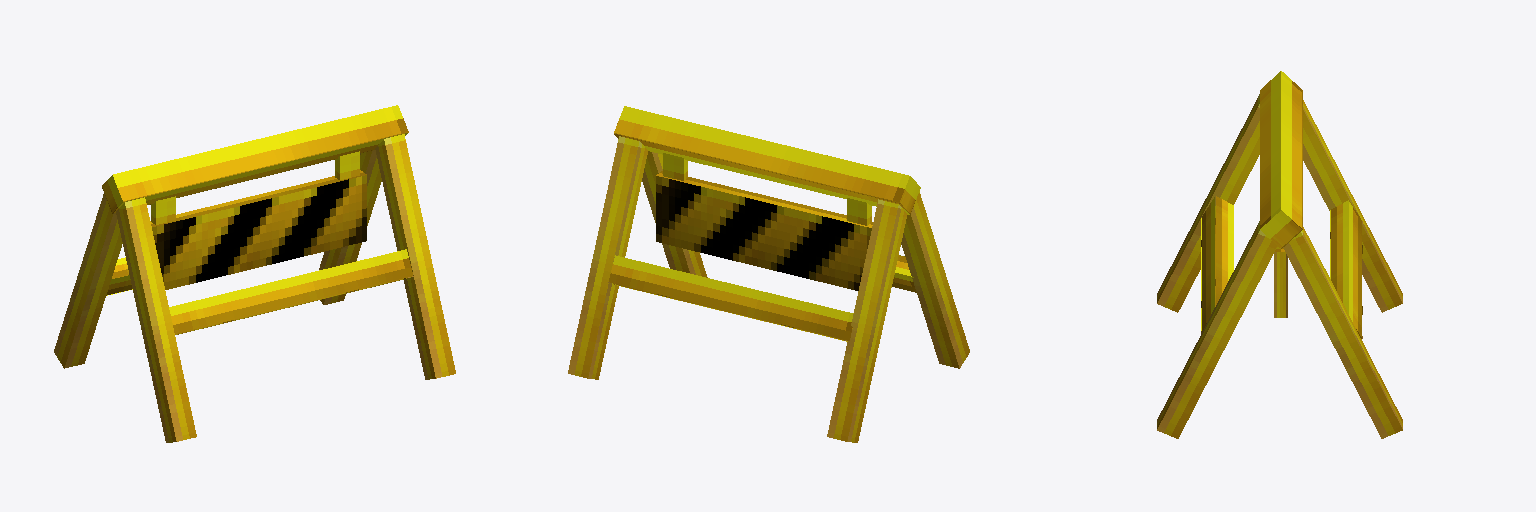
3 views of the same model, side by side, from view 1: azimuth 30°, elevation 25°; view 2: azimuth 150°, elevation 25°; view 3: azimuth 270°, elevation 25° (orthographic).
Visible parts, largest first — view 1: cube; view 2: cube; view 3: cube.
Part boxes in pixels (bbox=[...]): cube: bbox=[54, 105, 455, 442]; cube: bbox=[568, 106, 969, 442]; cube: bbox=[1157, 71, 1402, 438].
Bounding box in the file's own units: 0.875 × 0.677 × 0.6529.
1 materials, 1 textured.